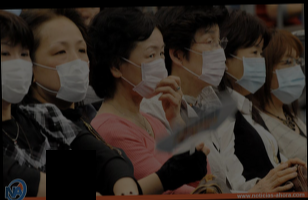with_mask: (37, 37, 91, 102), (124, 41, 170, 100), (184, 27, 228, 85), (1, 39, 34, 104), (229, 42, 268, 94), (272, 52, 307, 104)
